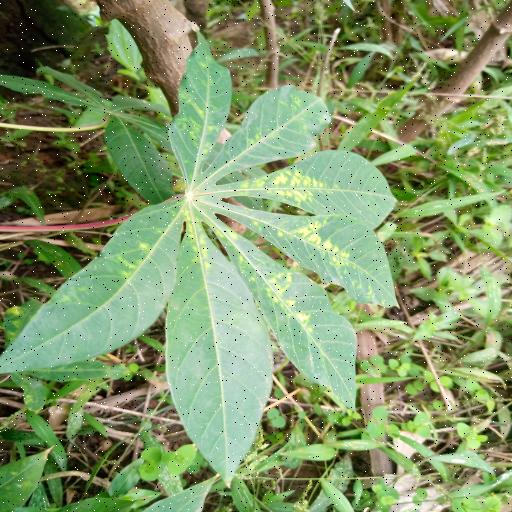Cassava_Mosaic: (2, 24, 399, 490)
